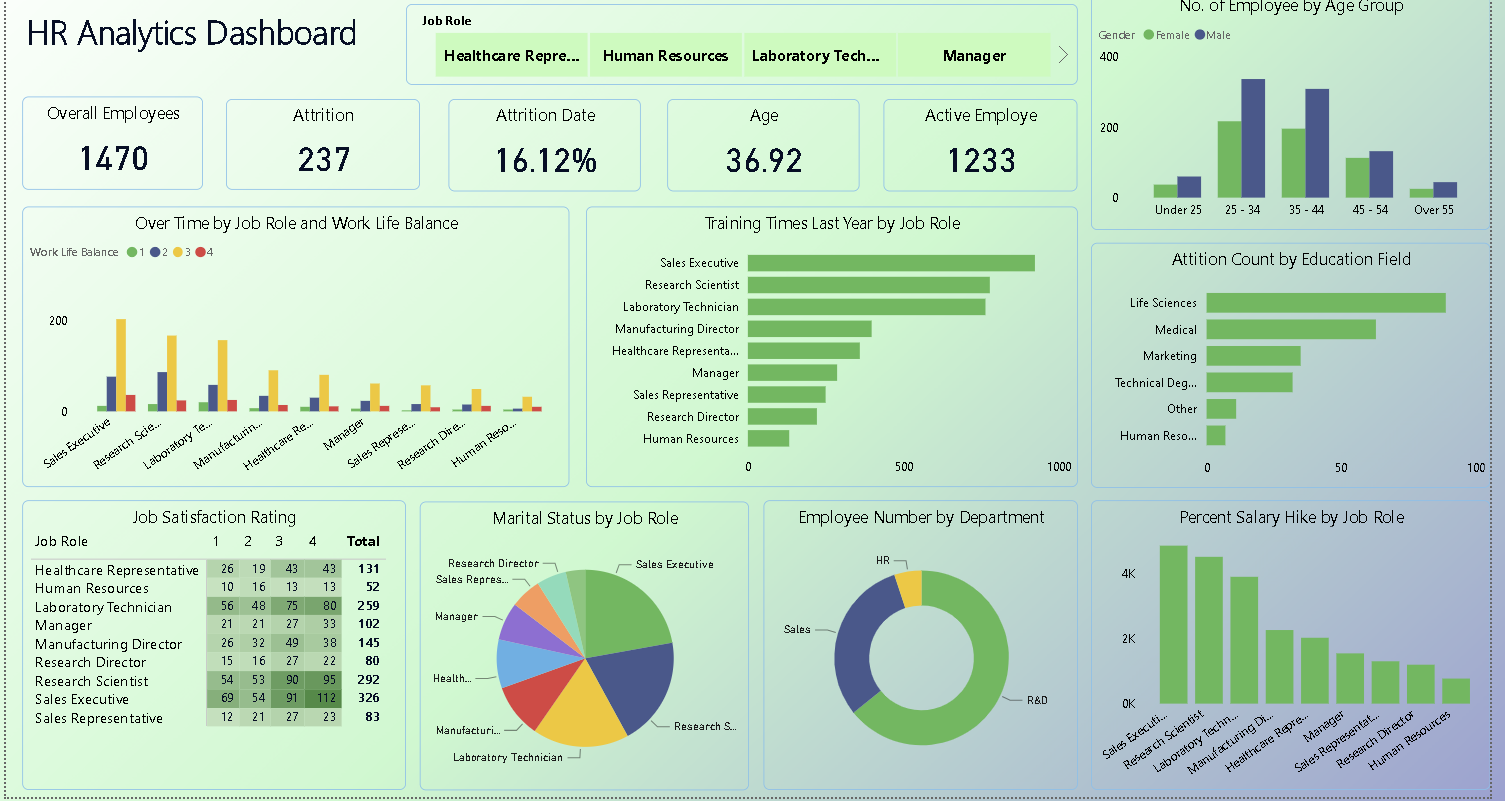

This screenshot's page, from the dashboard's own definition file:
{"tool":"powerbi","page":{"name":"Page 1","canvas":[1439,784],"ordinal":0},"visuals":[{"type":"columnChart","title":"Percent Salary Hike by Job Role","fields":{"Category":["Table1.Job Role"],"Y":["Sum(Table1.Percent Salary Hike)"]},"box":[1051.9,495.1,387.4,281],"z":0},{"type":"clusteredBarChart","title":"Training Times Last Year by Job Role","fields":{"Category":["Table1.Job Role"],"Y":["Sum(Table1.Training Times Last Year)"]},"box":[562.1,211.4,476.7,271.8],"z":1000},{"type":"lineClusteredColumnComboChart","title":"Over Time by Job Role and Work Life Balance","fields":{"Category":["Table1.Job Role"],"Y":["CountNonNull(Table1.Over Time)"],"Series":["Table1.Work Life Balance"]},"box":[15.8,211.4,530.5,271.8],"z":2000},{"type":"pieChart","title":"Marital Status by Job Role","fields":{"Category":["Table1.Job Role"],"Y":["CountNonNull(Table1.Marital Status)"]},"box":[400.5,496.4,319.1,279.7],"z":3000},{"type":"card","title":"Overall Employees","fields":{"Values":["Sum(Table1.Employee Count)"]},"box":[15.7,104.5,175,90.1],"z":4000},{"type":"card","title":"Attrition","fields":{"Values":["Sum(Table1.Attition Count)"]},"box":[212.7,106.4,187.8,88],"z":5000},{"type":"donutChart","title":"Employee Number by Department","fields":{"Category":["Table1.Department"],"Y":["Sum(Table1.Employee Number)"]},"box":[734.1,495.1,304.7,281],"z":6000},{"type":"card","title":"Attrition Date","fields":{"Values":["Table1.Attition Rate"]},"box":[429.4,106.4,186.5,89.3],"z":7000},{"type":"card","title":"Active Employe ","fields":{"Values":["Table1.Active Employees"]},"box":[851,106.4,187.8,89.3],"z":8000},{"type":"card","title":"Age","fields":{"Values":["Avg(Table1.Age)"]},"box":[640.9,106.4,186.5,89.3],"z":9000},{"type":"clusteredColumnChart","title":"No. of Employee by Age Group","fields":{"Y":["Sum(Table1.Employee Count)"],"Category":["Table1.CF_age band"],"Series":["Table1.Gender"]},"box":[1051.9,0,387.4,233.8],"z":10000},{"type":"pivotTable","title":"Job Satisfaction Rating","fields":{"Rows":["Table1.Job Role"],"Columns":["Table1.Job Satisfaction"],"Values":["Sum(Table1.Employee Count)"]},"box":[15.8,495.1,371.6,281],"z":11000},{"type":"clusteredBarChart","title":"Attition Count by Education Field","fields":{"Category":["Table1.Education Field"],"Y":["Sum(Table1.Attition Count)"]},"box":[1051.9,245.6,387.4,237.7],"z":12000},{"type":"textbox","box":[15.8,14.4,371.6,63],"z":13000},{"type":"slicer","fields":{"Values":["Table1.Job Role"]},"box":[387.4,14.4,651.4,78.8],"z":14000}]}

Visuals, with their boxes in screenshot pixels (x1, y1, x2, y2), scaled from the page's 1439x784 canvas onto the 1505x801 screenshot:
"Percent Salary Hike by Job Role" columnChart: crop(1100, 506, 1504, 793)
"Training Times Last Year by Job Role" clusteredBarChart: crop(588, 216, 1086, 494)
"Over Time by Job Role and Work Life Balance" lineClusteredColumnComboChart: crop(17, 216, 571, 494)
"Marital Status by Job Role" pieChart: crop(419, 507, 753, 793)
"Overall Employees" card: crop(16, 107, 199, 199)
"Attrition" card: crop(222, 109, 419, 199)
"Employee Number by Department" donutChart: crop(768, 506, 1086, 793)
"Attrition Date" card: crop(449, 109, 644, 200)
"Active Employe " card: crop(890, 109, 1086, 200)
"Age" card: crop(670, 109, 865, 200)
"No. of Employee by Age Group" clusteredColumnChart: crop(1100, 0, 1504, 239)
"Job Satisfaction Rating" pivotTable: crop(17, 506, 405, 793)
"Attition Count by Education Field" clusteredBarChart: crop(1100, 251, 1504, 494)
textbox: crop(17, 15, 405, 79)
slicer - Table1.Job Role: crop(405, 15, 1086, 95)
